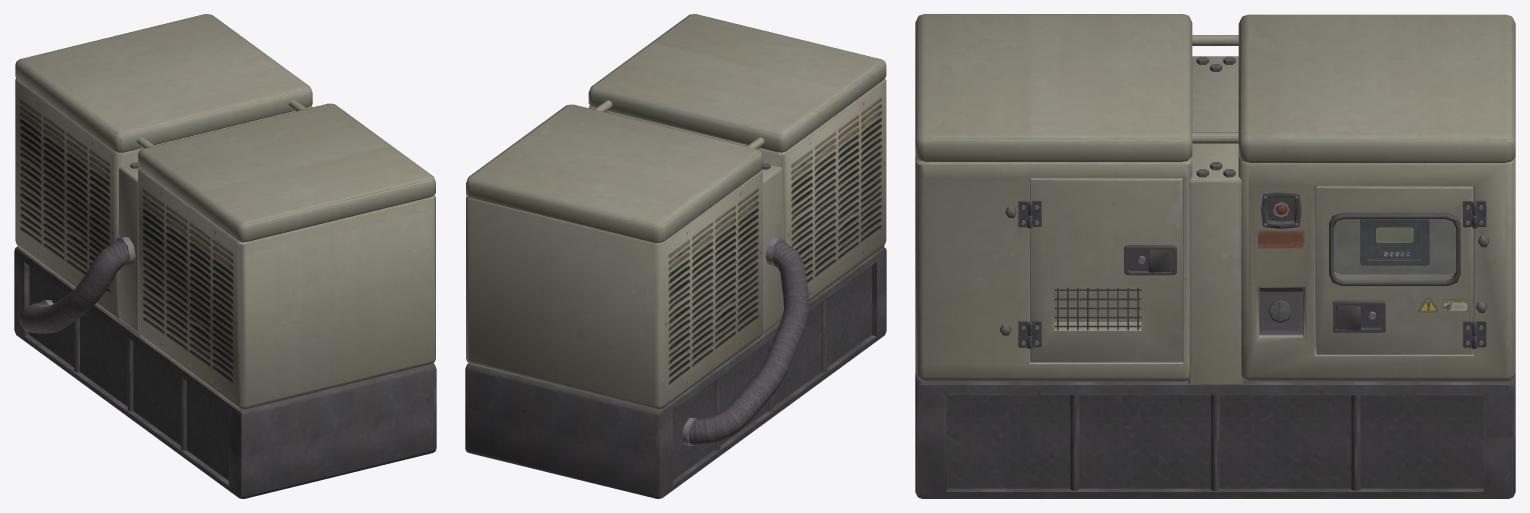
File: generator.glb
3 renders of one model, left to right at view 1: azimuth 30°, elevation 25°; view 2: azimuth 150°, elevation 25°; view 3: azimuth 270°, elevation 25°, orthographic. The views are drawn at different scales.
Visible parts, largest first — view 1: Object_2; view 2: Object_2; view 3: Object_2.
Part boxes in pixels (x1,y1,x2,y2): Object_2: [14, 14, 436, 498]; Object_2: [465, 14, 886, 498]; Object_2: [915, 14, 1515, 498].
Bounding box in the file's own units: 23.08 × 24.4 × 36.44.
Materials: 1 (1 with a texture image).
